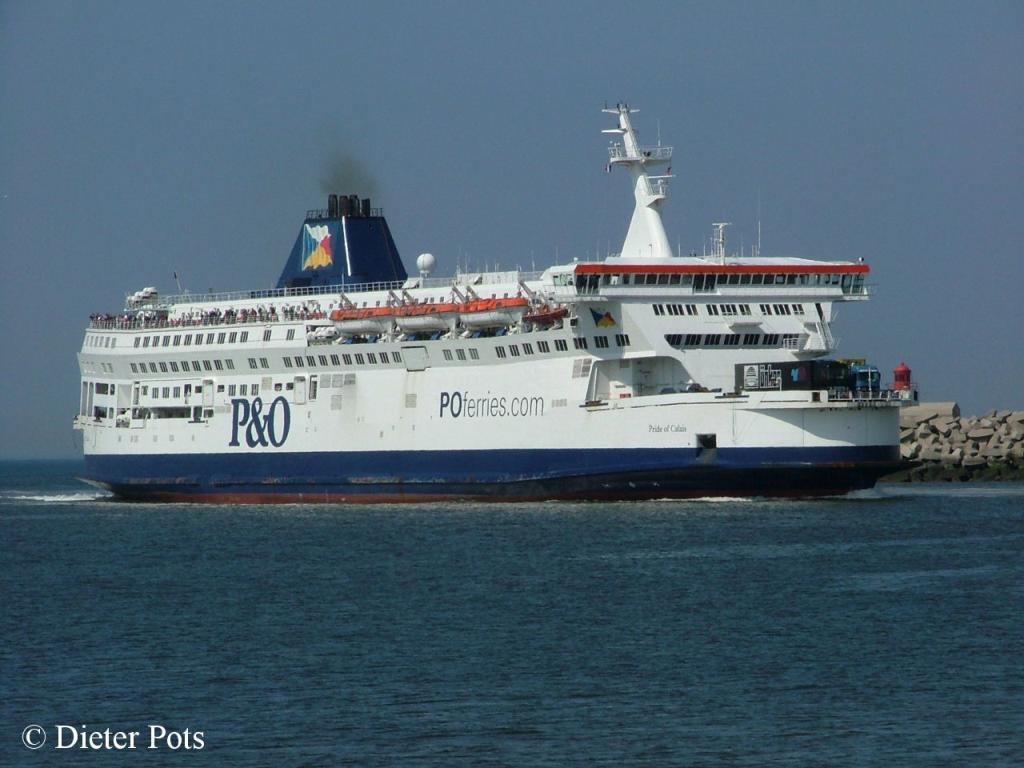youlun: (68, 95, 915, 507)
